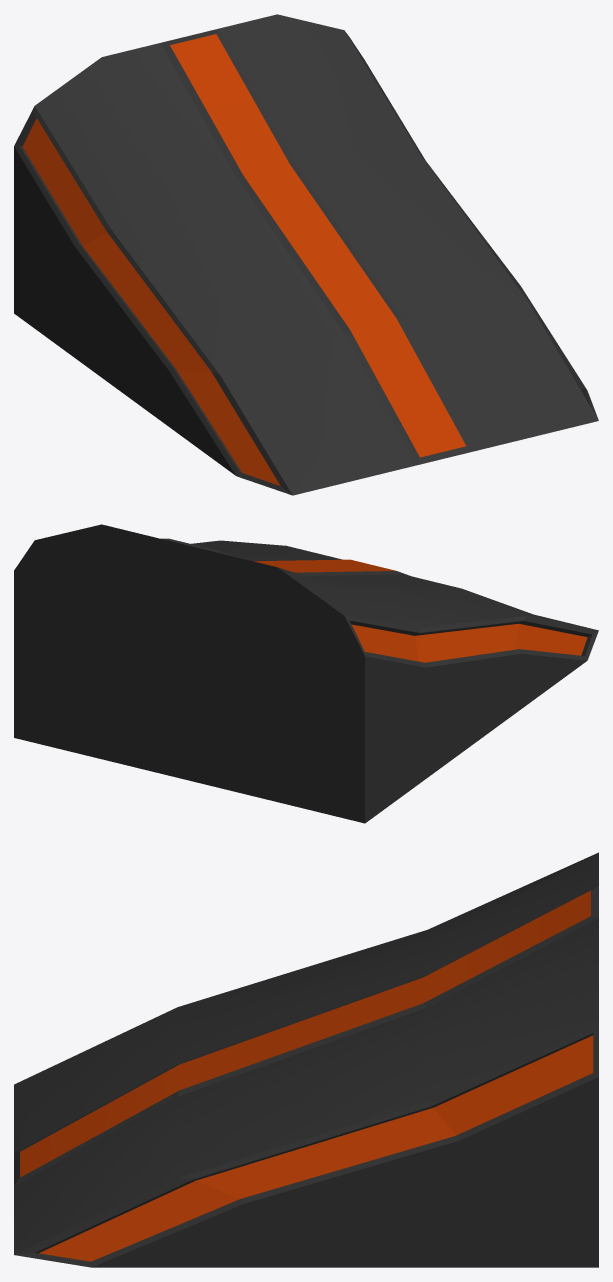
Rendered from Ramp01.fbx.
3 views of the same model, one above another, from view 1: azimuth 30°, elevation 25°; view 2: azimuth 150°, elevation 25°; view 3: azimuth 270°, elevation 25° (orthographic). The views are drawn at different scales.
Visible parts, largest first — view 1: Ramp01; view 2: Ramp01; view 3: Ramp01.
Boxes of the visible parts, left/top/right/bottom form: Ramp01: left=14, top=14, right=598, bottom=495; Ramp01: left=14, top=524, right=598, bottom=823; Ramp01: left=14, top=852, right=598, bottom=1267.
Size of the model in its own units: 400 by 256 by 506.
